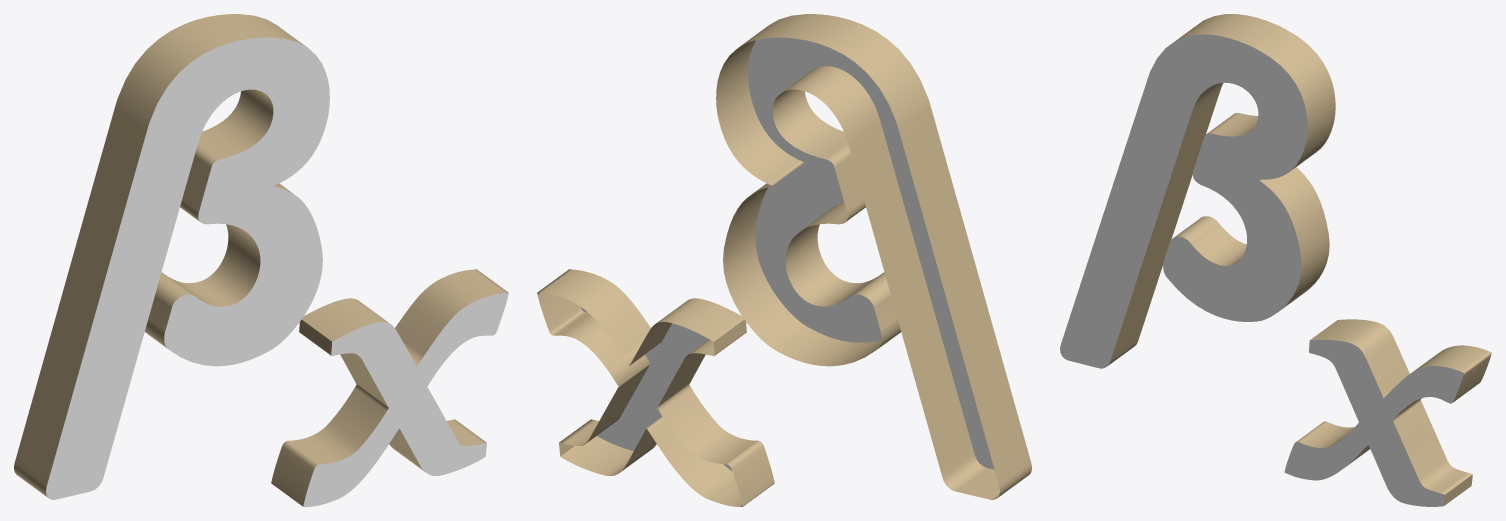
Rendered from boilerexams.glb.
3 views of the same model, side by side, from view 1: azimuth 30°, elevation 25°; view 2: azimuth 150°, elevation 25°; view 3: azimuth 330°, elevation 25° (orthographic). The views are drawn at different scales.
Parts seen in each view (by area): view 1: CurveBeta, CurveX; view 2: CurveBeta, CurveX; view 3: CurveBeta, CurveX.
Boxes of the visible parts, x1,y1,x2,y2 form: CurveBeta: (14,14,329,499); CurveX: (271,269,508,506); CurveBeta: (716,14,1031,499); CurveX: (537,269,774,506); CurveBeta: (1060,14,1335,368); CurveX: (1284,319,1491,506).
Size of the model in its own units: 4.12 by 4.12 by 0.4949.
